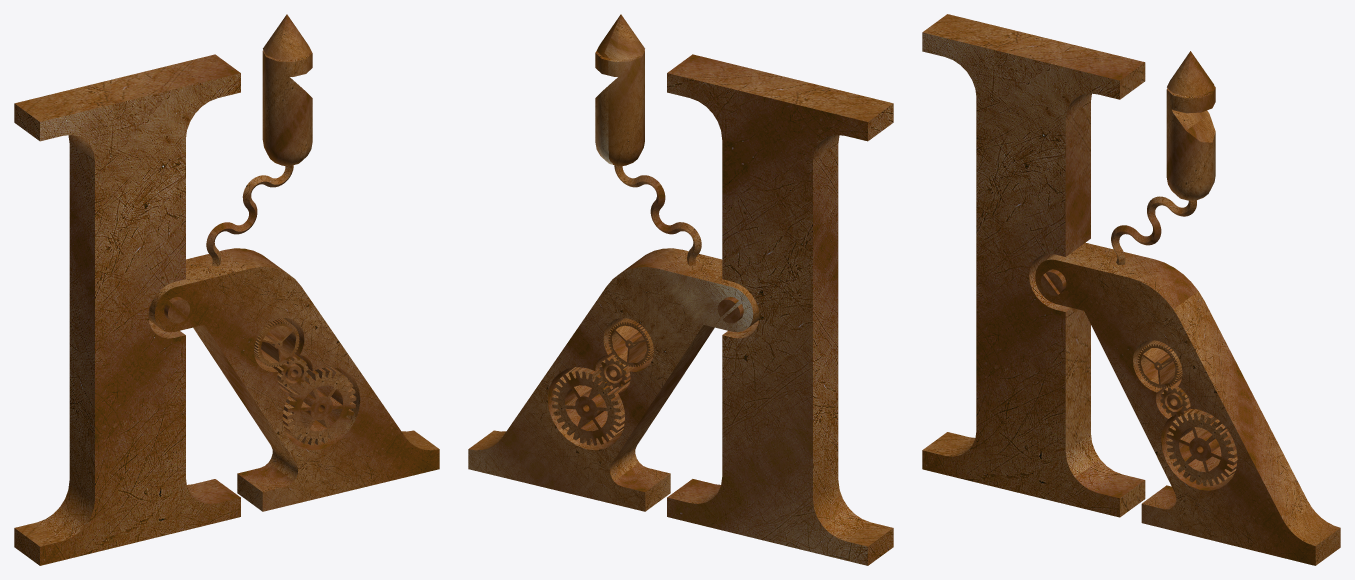
The picture shows the model from 3 angles, left to right: view 1: azimuth 30°, elevation 25°; view 2: azimuth 150°, elevation 25°; view 3: azimuth 330°, elevation 25°; orthographic projection.
Parts seen in each view (by area): view 1: K, Cogwheel_298, Cogwheel_299, Spiral_007, Cogwheel_295; view 2: K, Cogwheel_298, Cogwheel_299, Spiral_007, Cogwheel_295; view 3: K, Cogwheel_298, Cogwheel_299, Spiral_007, Cogwheel_295, Screw_863.
Part boxes in pixels (x1,y1,x2,y2): K: (14, 14, 439, 565); Cogwheel_298: (277, 367, 356, 445); Cogwheel_299: (254, 318, 299, 367); Spiral_007: (206, 165, 293, 266); Cogwheel_295: (273, 354, 308, 388); K: (468, 14, 893, 565); Cogwheel_298: (551, 367, 630, 445); Cogwheel_299: (608, 318, 653, 366); Spiral_007: (614, 165, 701, 266); Cogwheel_295: (599, 354, 634, 388); K: (922, 14, 1340, 565); Cogwheel_298: (1166, 409, 1237, 486); Cogwheel_299: (1137, 340, 1182, 388); Spiral_007: (1111, 196, 1196, 264); Cogwheel_295: (1160, 379, 1190, 416); Screw_863: (1041, 269, 1066, 295).
Size of the model in its own units: 90.17 by 104 by 12.89.
1 material, 1 textured.
